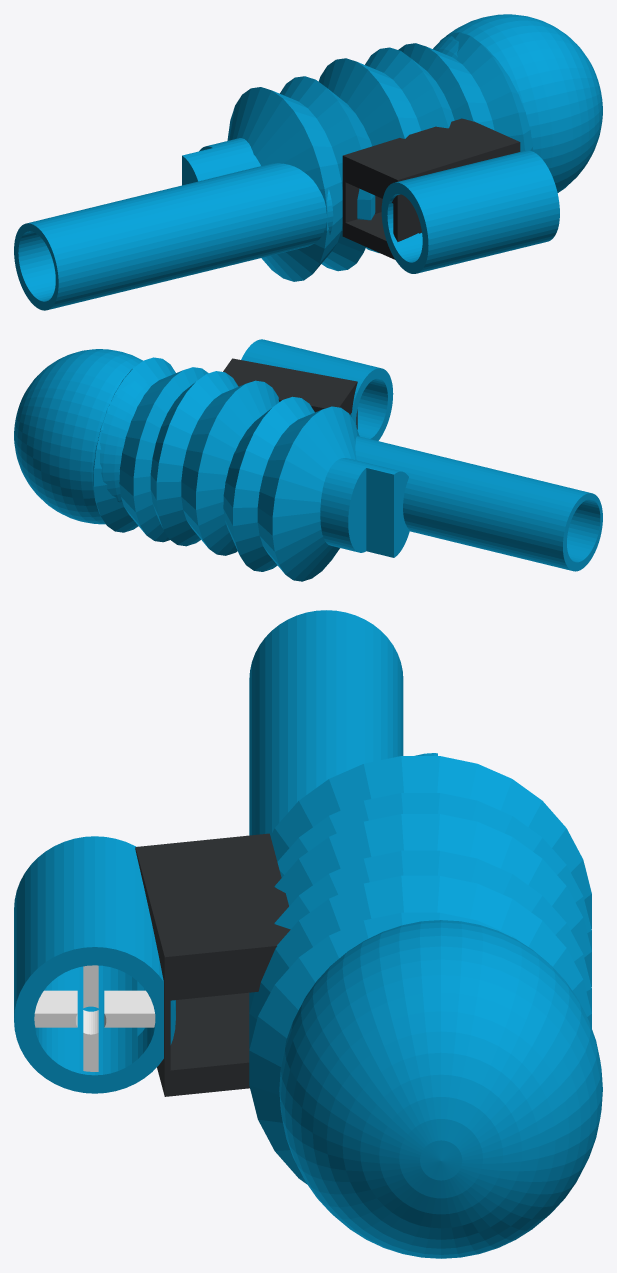
The model's file is tinker.obj.
3 renders of one model, top to bottom at view 1: azimuth 30°, elevation 25°; view 2: azimuth 150°, elevation 25°; view 3: azimuth 270°, elevation 25°, orthographic. The views are drawn at different scales.
Visible parts, largest first — view 1: obj_0, obj_7, obj_2, obj_5, obj_6, obj_3, obj_4, obj_1; view 2: obj_0, obj_2, obj_5, obj_3, obj_4, obj_1, obj_7, obj_6; view 3: obj_5, obj_7, obj_6, obj_0, obj_4, obj_3, obj_2, obj_8.
Part boxes in pixels (x1,y1,x2,y2): obj_0: [14, 163, 333, 310]; obj_7: [381, 150, 559, 273]; obj_2: [227, 76, 375, 281]; obj_5: [433, 14, 602, 192]; obj_6: [342, 118, 520, 259]; obj_3: [318, 47, 454, 253]; obj_4: [398, 32, 532, 151]; obj_1: [182, 138, 260, 185]; obj_0: [350, 436, 602, 571]; obj_2: [223, 396, 359, 581]; obj_5: [14, 349, 152, 524]; obj_3: [150, 371, 279, 555]; obj_4: [93, 357, 208, 542]; obj_1: [320, 458, 409, 557]; obj_7: [241, 339, 393, 440]; obj_6: [223, 358, 357, 429]; obj_5: [279, 920, 602, 1258]; obj_7: [14, 836, 175, 1093]; obj_6: [135, 833, 290, 1096]; obj_0: [249, 610, 403, 835]; obj_4: [249, 875, 591, 1183]; obj_3: [249, 814, 591, 1012]; obj_2: [270, 756, 591, 950]; obj_8: [34, 965, 155, 1071].
Bounding box in the file's own units: 152 × 46.96 × 76.42.
